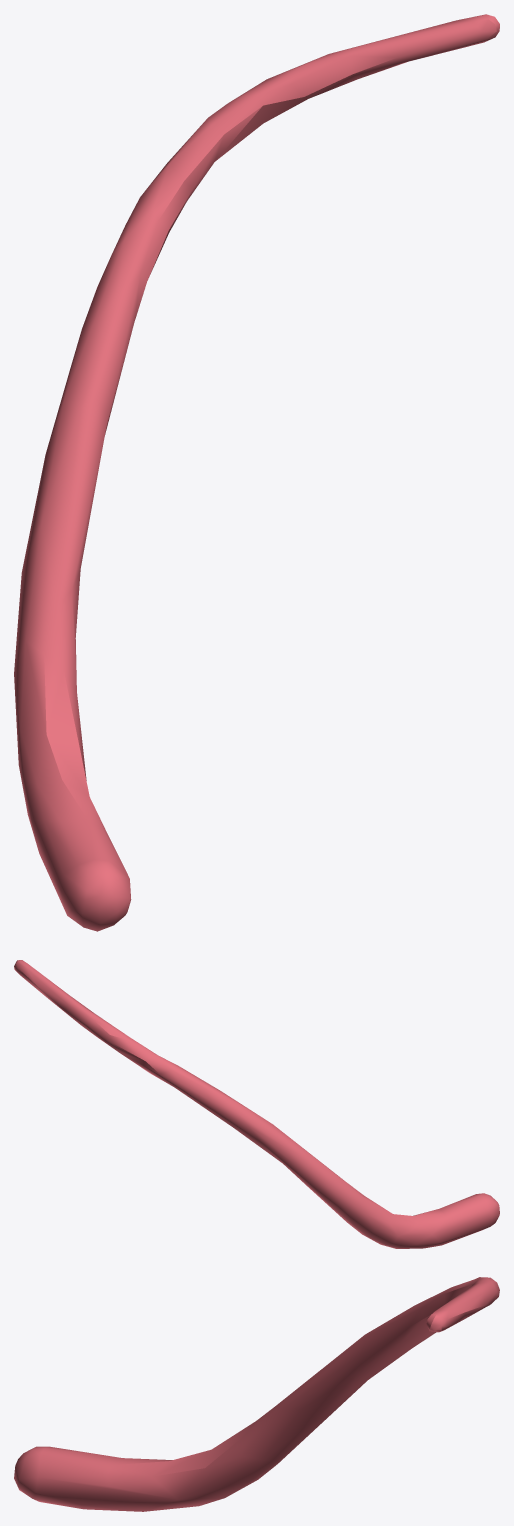
Rendered from fma70447_fj1916.glb.
The picture shows the model from 3 angles, top to bottom: view 1: azimuth 30°, elevation 25°; view 2: azimuth 150°, elevation 25°; view 3: azimuth 270°, elevation 25°; orthographic projection. The views are drawn at different scales.
Visible parts, largest first — view 1: FMA70447_FJ1916; view 2: FMA70447_FJ1916; view 3: FMA70447_FJ1916.
Boxes of the visible parts, box(x1,y1,x2,y2) form: FMA70447_FJ1916: box(14, 14, 499, 931); FMA70447_FJ1916: box(14, 960, 499, 1248); FMA70447_FJ1916: box(14, 1277, 499, 1511).
Size of the model in its own units: 0.0165 by 0.0129 by 0.0133.
